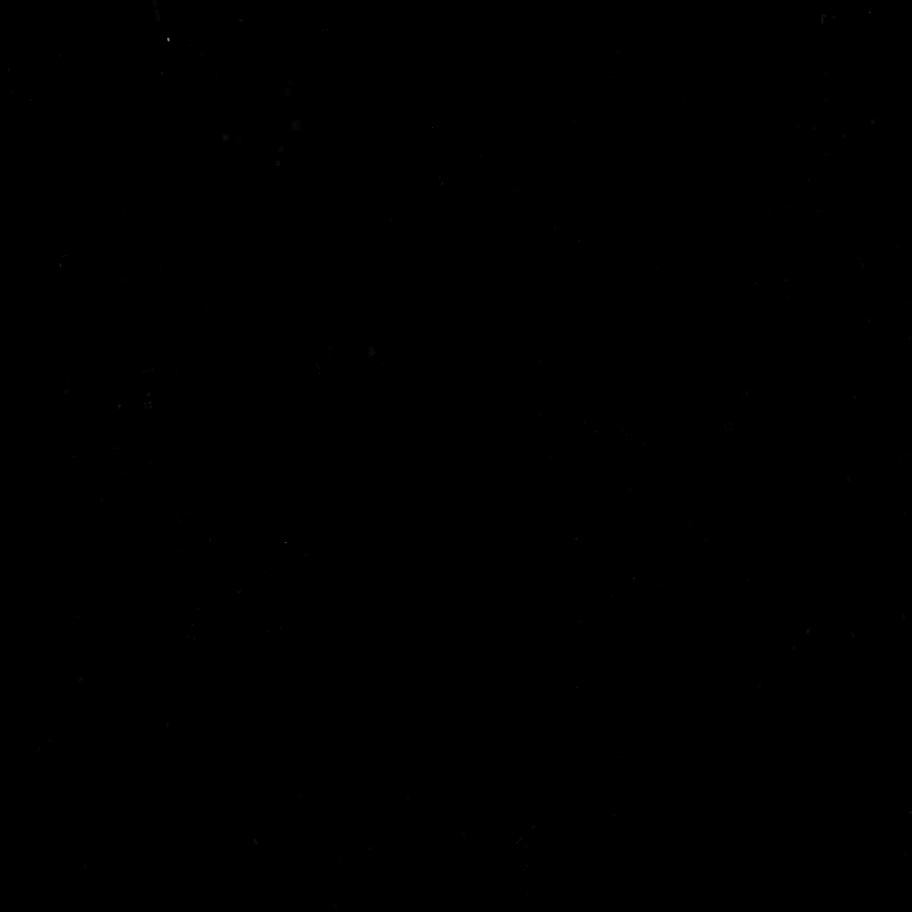storage-tank: (266, 49, 281, 64), (289, 120, 302, 133), (250, 131, 263, 143), (260, 200, 273, 212), (267, 73, 279, 86), (299, 177, 311, 189), (234, 135, 246, 147), (285, 88, 297, 100), (270, 127, 281, 138), (164, 156, 175, 167), (293, 49, 303, 61), (284, 201, 294, 212), (283, 170, 293, 181), (314, 132, 324, 143), (259, 166, 269, 176), (299, 156, 309, 166), (251, 186, 261, 196), (296, 97, 306, 107), (243, 169, 252, 179), (315, 166, 325, 175), (268, 110, 277, 119), (228, 153, 237, 162), (286, 78, 295, 87), (174, 143, 182, 153), (244, 152, 253, 160), (179, 155, 187, 164), (329, 145, 337, 153), (209, 167, 217, 175), (76, 110, 84, 118), (281, 112, 289, 120), (319, 35, 327, 43), (301, 86, 309, 94), (329, 177, 336, 186), (316, 188, 323, 196), (277, 146, 285, 153), (161, 145, 169, 152), (222, 134, 229, 142), (184, 170, 191, 177), (298, 23, 305, 30), (173, 172, 179, 180), (214, 181, 220, 188), (237, 119, 243, 126), (311, 22, 317, 29), (332, 161, 338, 167), (309, 15, 315, 21), (301, 71, 307, 77), (323, 44, 328, 50), (234, 19, 239, 25), (132, 51, 137, 56), (181, 135, 186, 140), (220, 127, 224, 133), (132, 39, 136, 44), (149, 63, 153, 68), (161, 71, 165, 76), (309, 9, 313, 14), (288, 70, 292, 75), (134, 66, 138, 70), (102, 105, 106, 109), (318, 19, 322, 23), (239, 19, 243, 23), (323, 17, 326, 22), (171, 115, 176, 118), (231, 20, 234, 25), (277, 162, 280, 166), (101, 96, 104, 100), (179, 129, 183, 132), (245, 28, 248, 32), (243, 19, 246, 23), (235, 28, 239, 31), (126, 53, 129, 56), (190, 144, 193, 147), (332, 32, 335, 35), (332, 28, 335, 31), (187, 149, 190, 152), (240, 26, 243, 29), (276, 157, 280, 159), (327, 46, 330, 48), (174, 125, 177, 127), (232, 29, 234, 32), (240, 30, 242, 33), (178, 123, 180, 125), (191, 148, 192, 151), (141, 80, 142, 83), (331, 37, 334, 38), (173, 120, 174, 123), (101, 101, 103, 102), (323, 30, 324, 32), (327, 30, 328, 30)
